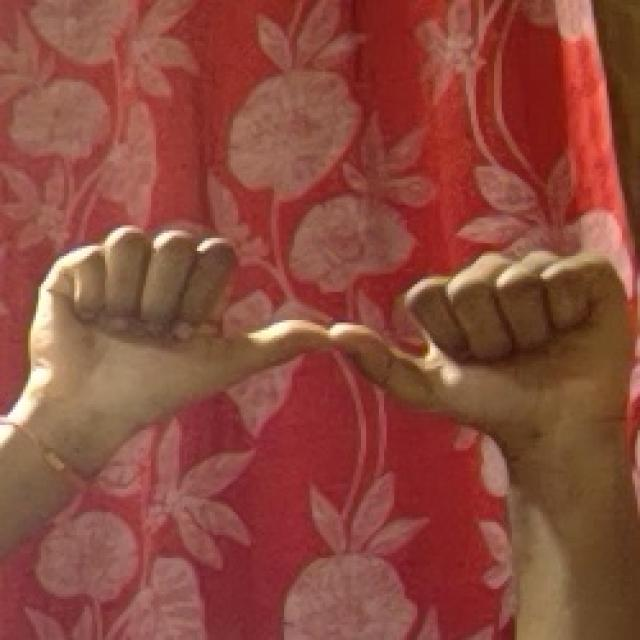Alphabet-A: (21, 220, 624, 468)
